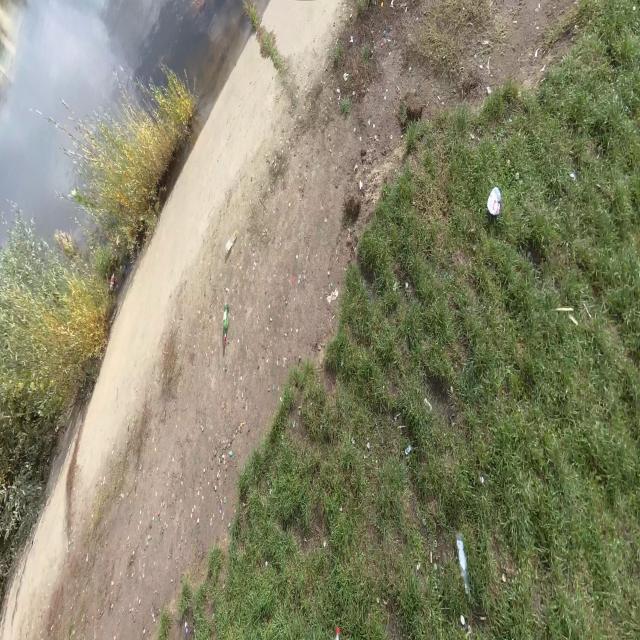rubbish: (455, 531, 470, 592), (486, 186, 501, 216), (223, 229, 239, 257), (222, 303, 229, 347), (109, 269, 116, 288)
